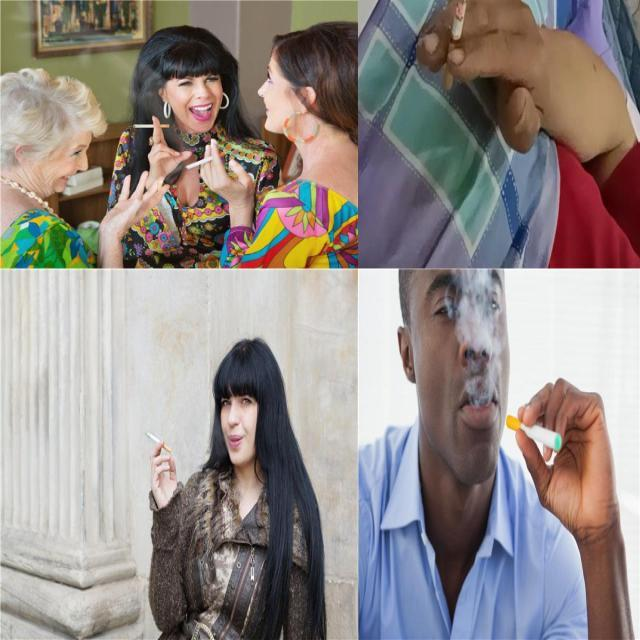smoking: (442, 0, 472, 92), (506, 414, 562, 452), (143, 427, 173, 457), (184, 151, 227, 171), (131, 123, 171, 129)
